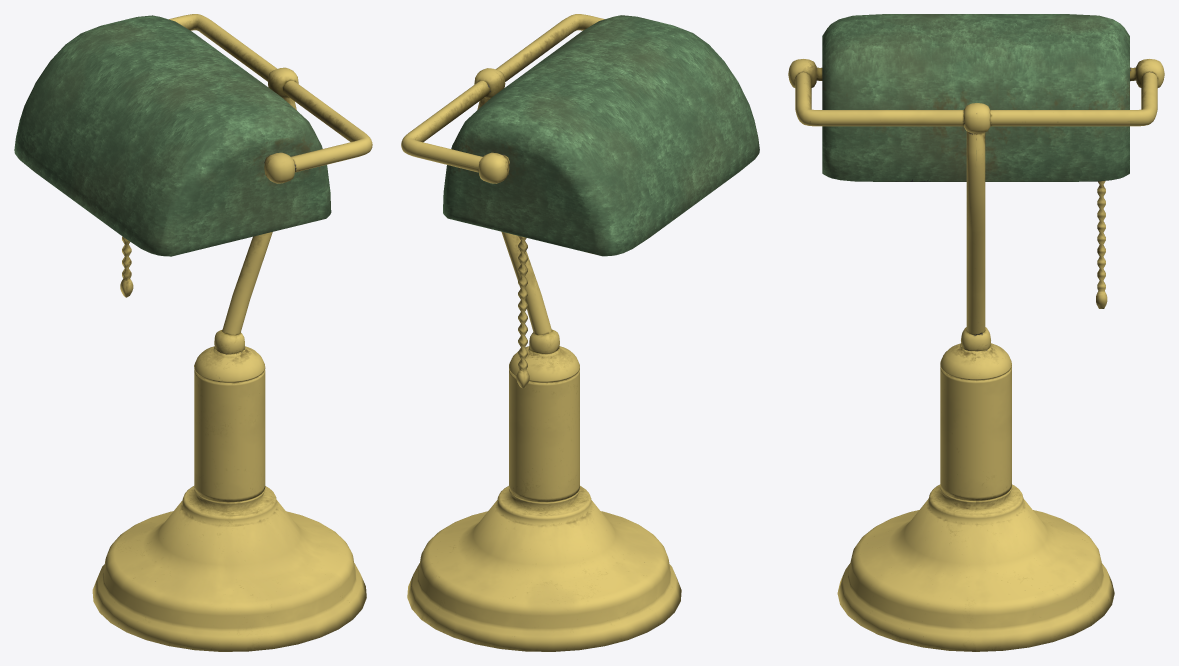
The model's file is LampDeskGreen.glb.
3 views of the same model, side by side, from view 1: azimuth 30°, elevation 25°; view 2: azimuth 150°, elevation 25°; view 3: azimuth 270°, elevation 25° (orthographic).
Visible parts, largest first — view 1: LampDeskGreen; view 2: LampDeskGreen; view 3: LampDeskGreen.
Boxes of the visible parts, x1,y1,x2,y2 form: LampDeskGreen: (14,14,372,651); LampDeskGreen: (401,14,759,651); LampDeskGreen: (788,14,1164,651).
Bounding box in the file's own units: 26.23 × 50.02 × 31.42.
Materials: 1 (1 with a texture image).
